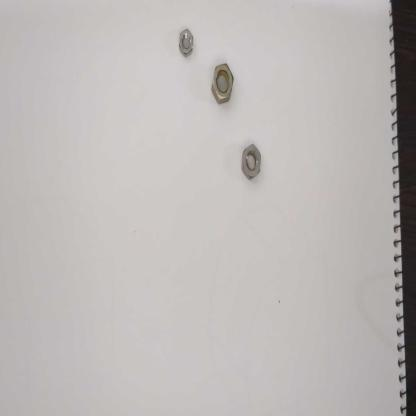NUTS: (208, 56, 238, 107), (237, 136, 267, 183), (178, 22, 196, 57)
